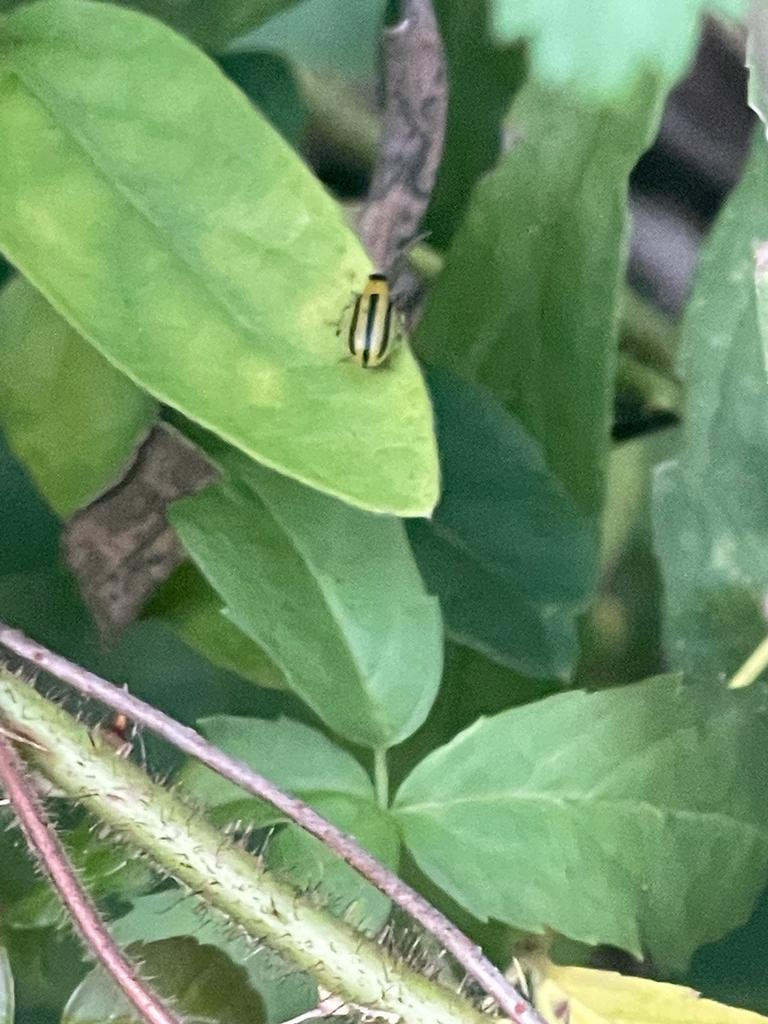potato_beetle: (310, 253, 434, 383)
